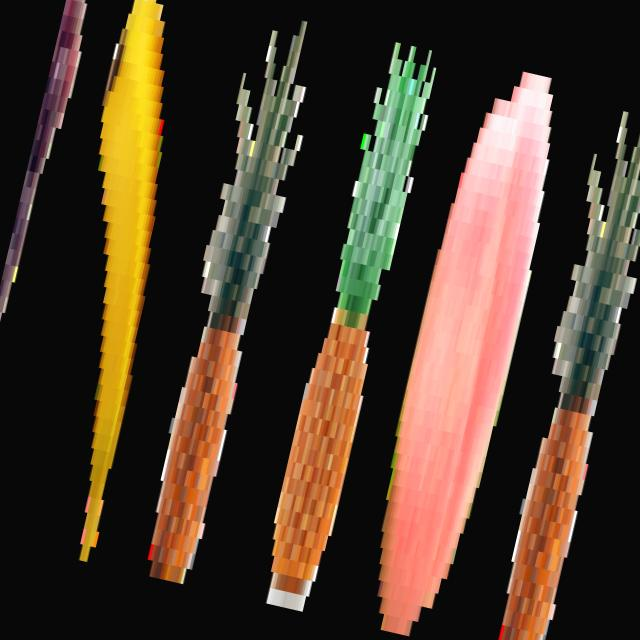bananas: (0, 0, 226, 579)
peach: (342, 44, 579, 640)
pineapples: (118, 0, 333, 611), (238, 30, 456, 632), (467, 67, 640, 640)
